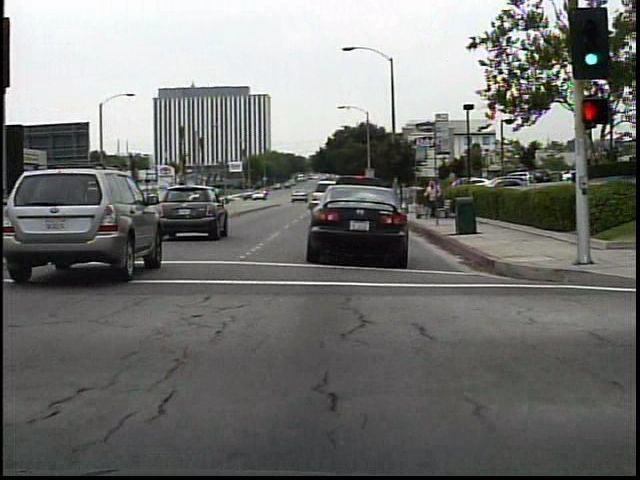person: (422, 177, 443, 222)
